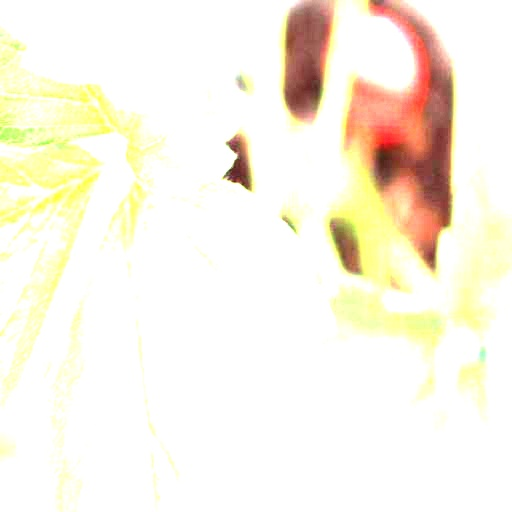Powdery Mildew Leaf: (30, 169, 349, 511)
